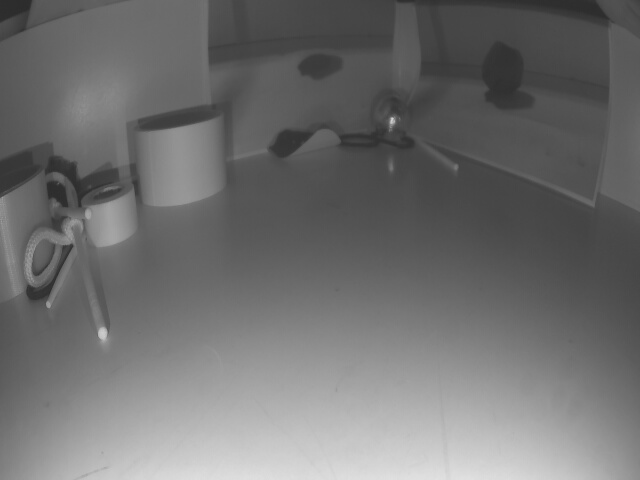Live: (377, 92, 409, 133)
